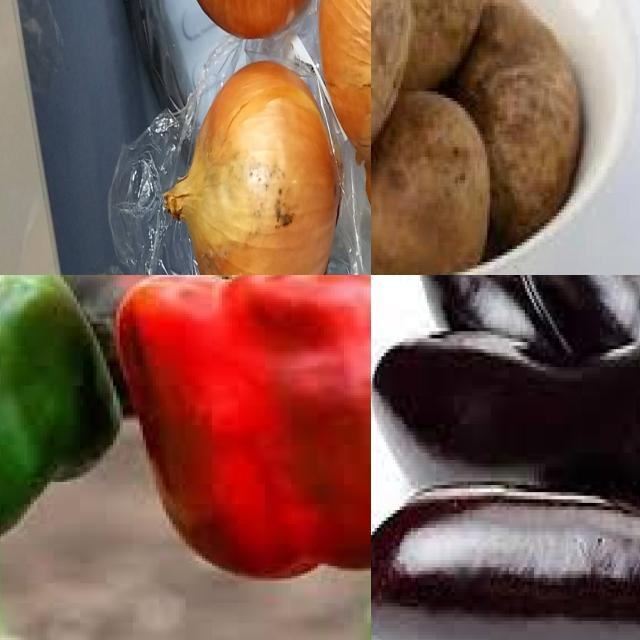bell_pepper: (1, 276, 128, 562)
eggplant: (372, 300, 640, 489), (372, 485, 640, 640), (416, 276, 640, 421)
onion: (164, 60, 343, 276)
potato: (466, 1, 585, 237), (372, 94, 495, 276), (372, 1, 480, 96)
